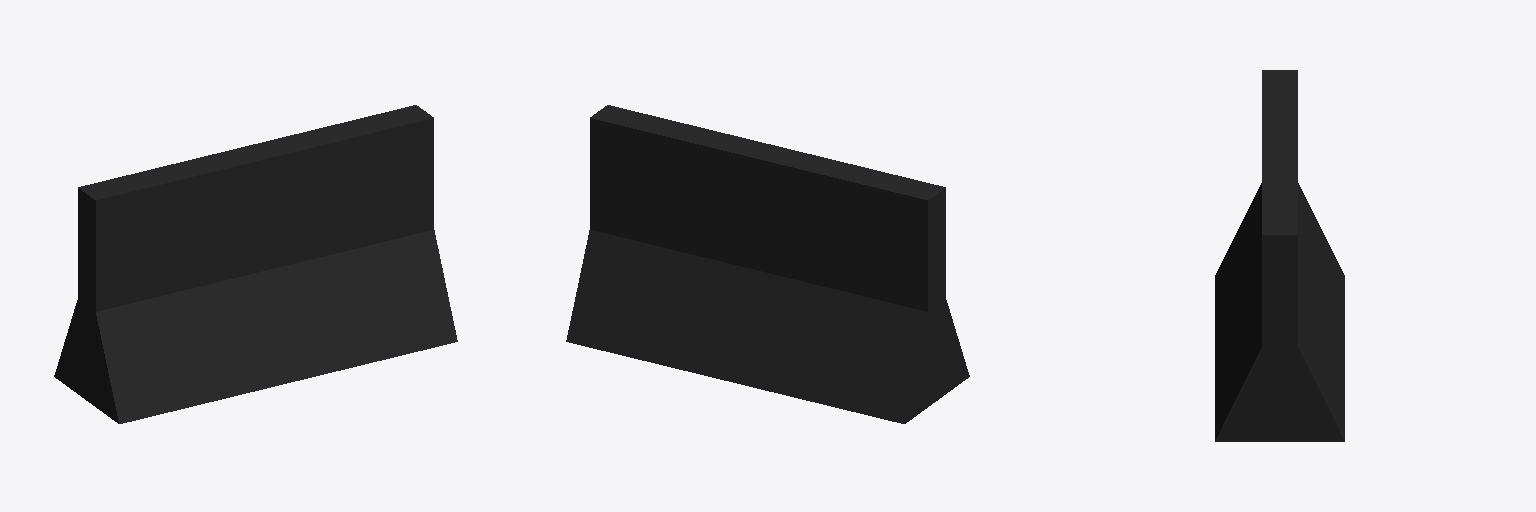
The model's file is concretebarrier.obj.
3 views of the same model, side by side, from view 1: azimuth 30°, elevation 25°; view 2: azimuth 150°, elevation 25°; view 3: azimuth 270°, elevation 25° (orthographic).
Visible parts, largest first — view 1: Plane.003; view 2: Plane.003; view 3: Plane.003.
Boxes of the visible parts, box(x1,y1,x2,y2) form: Plane.003: box(54, 105, 457, 423); Plane.003: box(566, 105, 969, 423); Plane.003: box(1215, 70, 1344, 441).
Bounding box in the file's own units: 3 × 1.75 × 1.